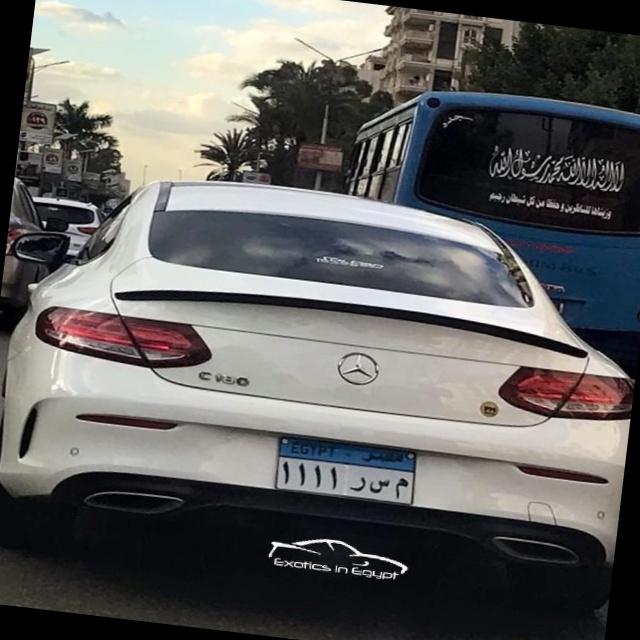License Plate: (270, 434, 421, 508)
